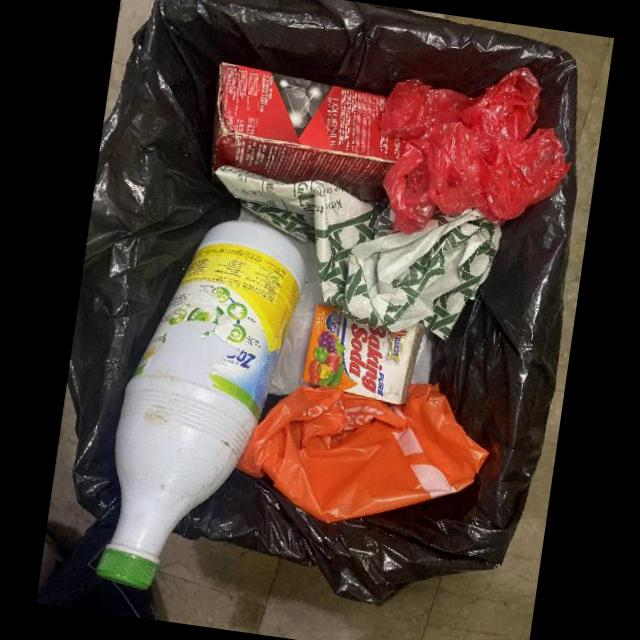carton: (211, 61, 406, 202), (302, 305, 425, 405)
chai_nhua: (95, 219, 306, 589)
giay: (214, 165, 502, 339)
tui_ni_long: (236, 383, 490, 523), (379, 66, 571, 235)
